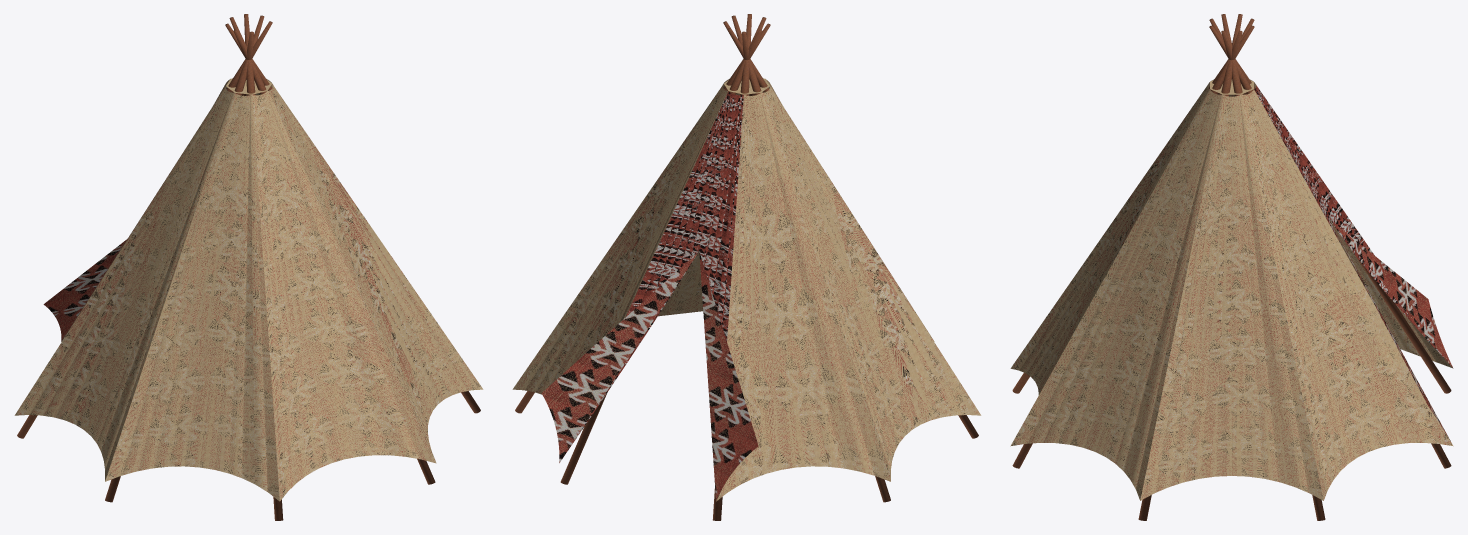
3 views of the same model, side by side, from view 1: azimuth 30°, elevation 25°; view 2: azimuth 150°, elevation 25°; view 3: azimuth 270°, elevation 25° (orthographic).
Visible parts, largest first — view 1: group_6, group_0, group_4, group_3, teepee, group_10, group_14, group_15; view 2: group_7, group_4, teepee (×2), group_2, group_1, group_3, group_13, group_12, group_11; view 3: group_5, group_3, group_2, group_0, teepee (×2), group_1, group_7, group_12, group_9, group_16, group_15, group_13.
Boxes of the visible parts, x1,y1,x2,y2 form: group_6: [105, 93, 279, 501]; group_0: [252, 91, 436, 500]; group_4: [14, 87, 234, 480]; group_3: [267, 84, 483, 460]; teepee: [43, 239, 126, 341]; group_10: [105, 15, 264, 502]; group_14: [244, 14, 283, 520]; group_15: [229, 17, 435, 484]; group_7: [716, 93, 890, 501]; group_4: [761, 87, 981, 480]; teepee (×2): [541, 251, 758, 501]; group_2: [512, 84, 728, 394]; group_1: [564, 91, 743, 455]; group_3: [658, 93, 740, 316]; group_13: [560, 17, 766, 484]; group_12: [712, 14, 751, 520]; group_11: [731, 15, 890, 502]; group_5: [1140, 95, 1323, 500]; group_3: [1010, 90, 1222, 500]; group_2: [1241, 90, 1453, 500]; group_0: [1010, 85, 1209, 394]; teepee (×2): [1329, 219, 1452, 440]; group_1: [1254, 85, 1452, 367]; group_7: [1250, 79, 1452, 368]; group_12: [1209, 25, 1451, 393]; group_9: [1138, 14, 1242, 520]; group_16: [1221, 14, 1325, 520]; group_15: [1012, 18, 1254, 468]; group_13: [1209, 18, 1451, 468].
Size of the model in its own units: 174 by 174 by 177.
Materials: 5 (5 with a texture image).
